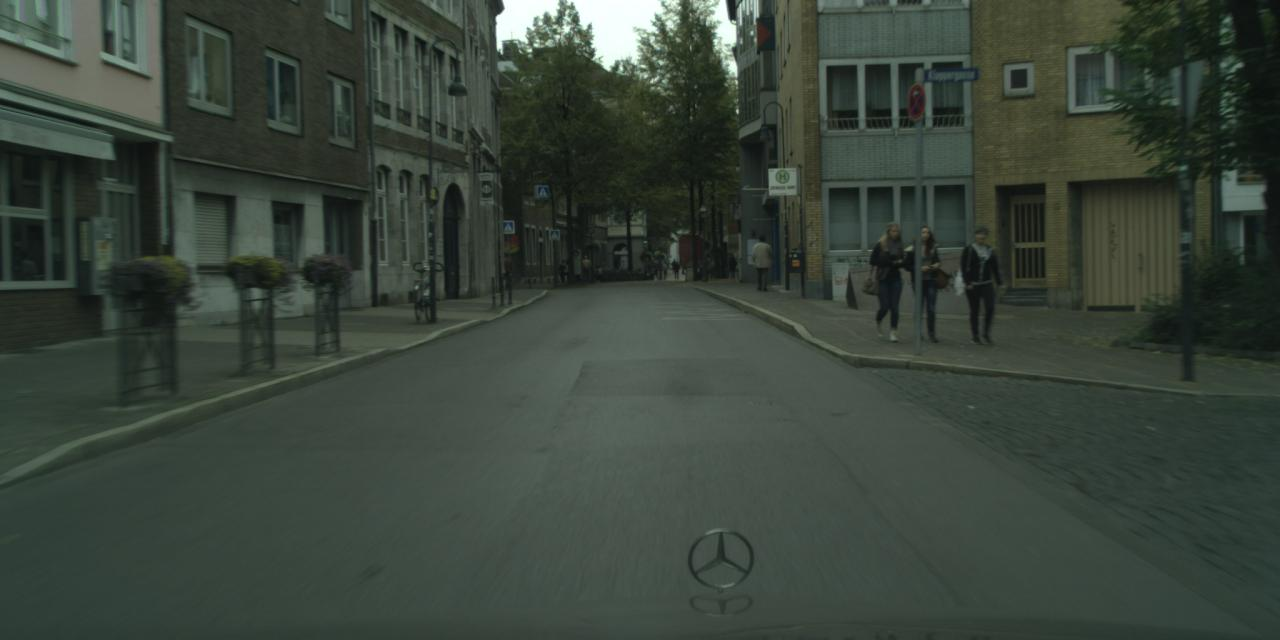ped: (865, 221, 913, 339), (957, 225, 1004, 341), (902, 226, 948, 340), (750, 236, 772, 291), (496, 251, 512, 291), (580, 256, 590, 282), (558, 260, 567, 282), (728, 256, 736, 278), (672, 261, 679, 279), (671, 258, 676, 273)
